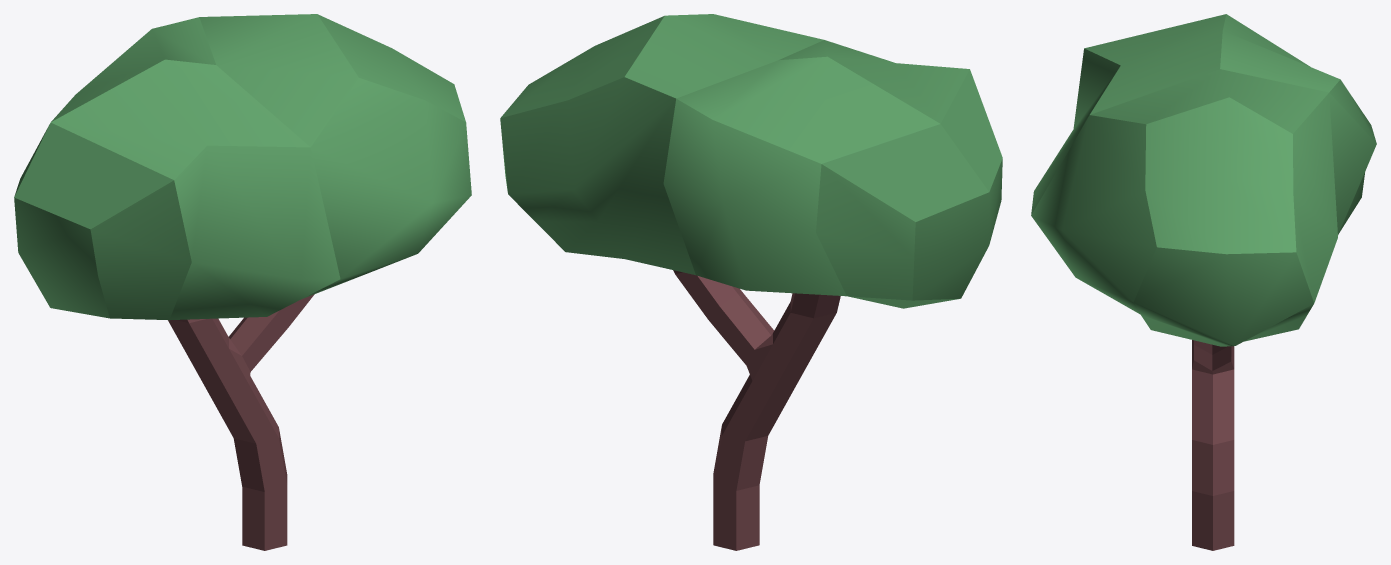
File: Generic Tree 2_Mod (1).fbx
The picture shows the model from 3 angles, left to right: view 1: azimuth 30°, elevation 25°; view 2: azimuth 150°, elevation 25°; view 3: azimuth 270°, elevation 25°; orthographic projection. The views are drawn at different scales.
Visible parts, largest first — view 1: pCylinder2; view 2: pCylinder2; view 3: pCylinder2.
Boxes of the visible parts, <box> form: pCylinder2: <box>14,14,471,550</box>; pCylinder2: <box>500,14,1002,550</box>; pCylinder2: <box>1031,14,1376,550</box>.
Bounding box in the file's own units: 290 × 302 × 201.
